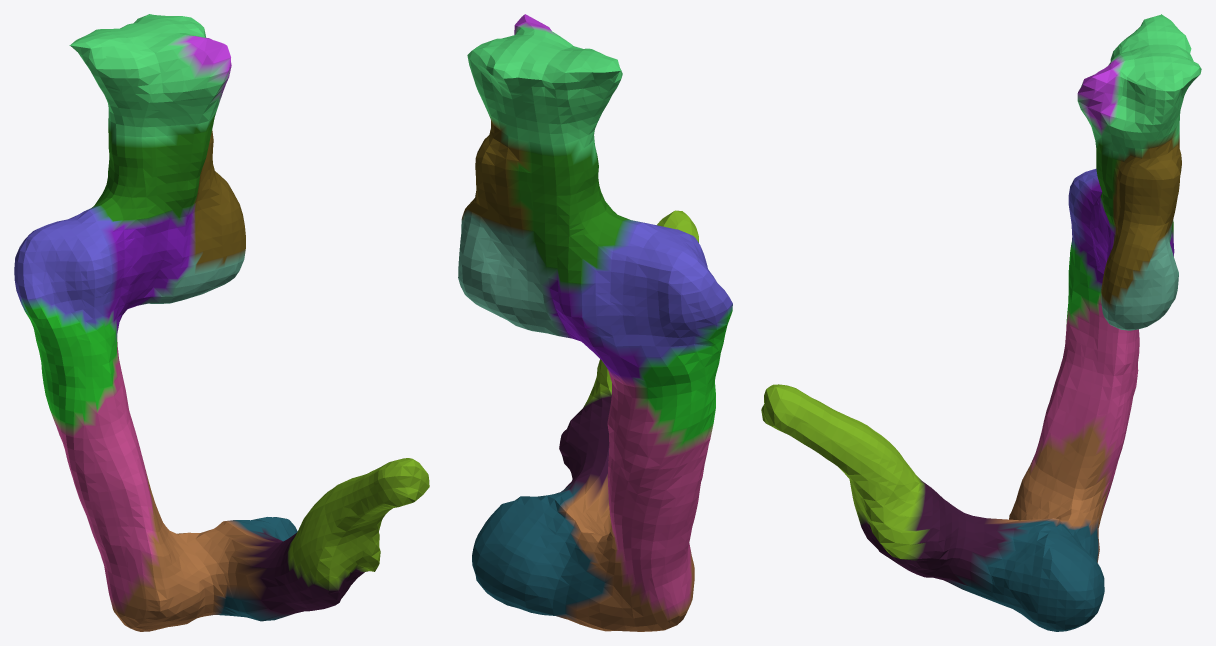
Rendered from fg-00050-geo-color.obj.
3 renders of one model, left to right at view 1: azimuth 30°, elevation 25°; view 2: azimuth 150°, elevation 25°; view 3: azimuth 270°, elevation 25°, orthographic. The views are drawn at different scales.
Size of the model in its own units: 0.1257 by 0.2673 by 0.1936.
